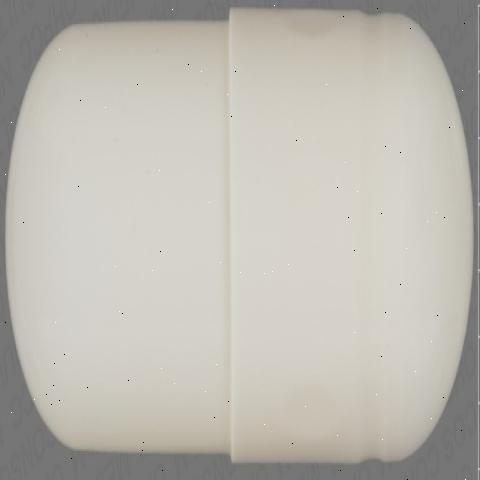Pill: (0, 7, 471, 475)
